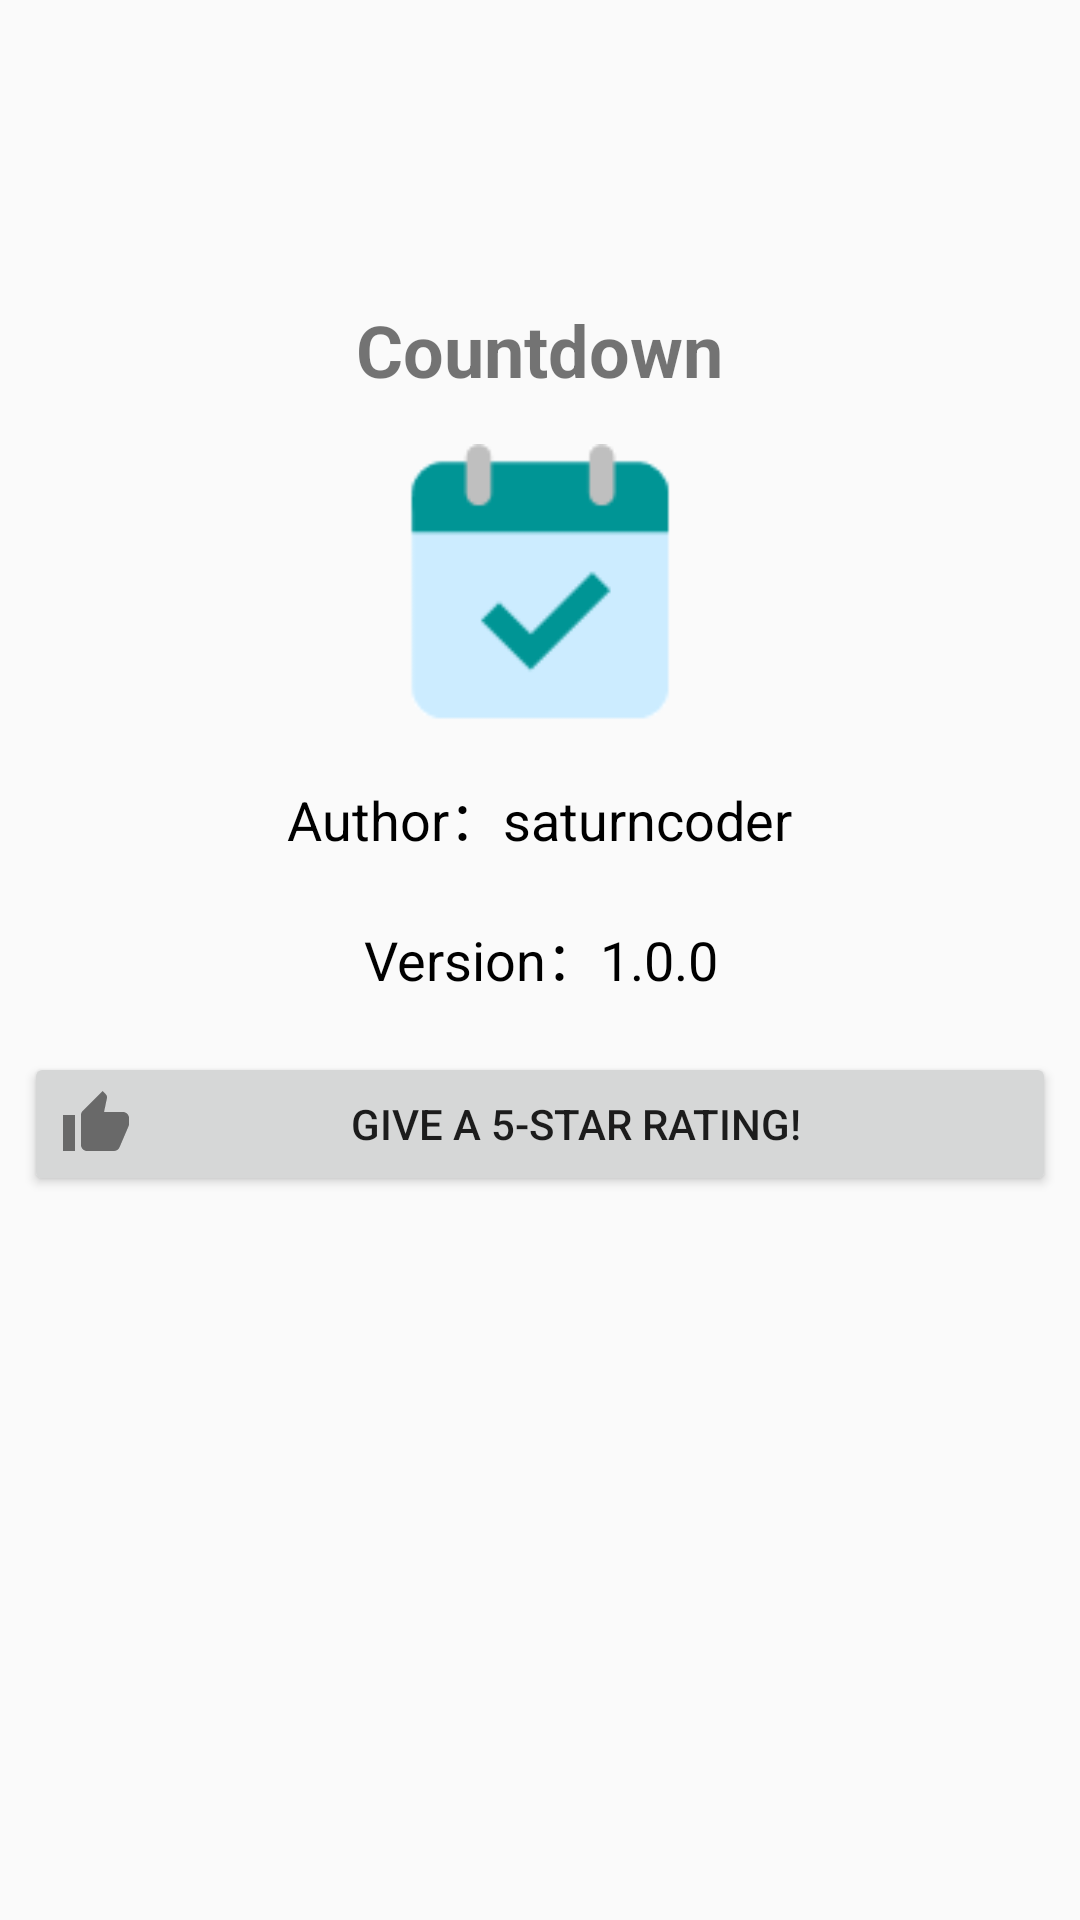

Icon bounding boxes for this 1080*1920 phone screenshot, format (x1, y1, x2, y2):
app: (410, 444, 670, 718)
